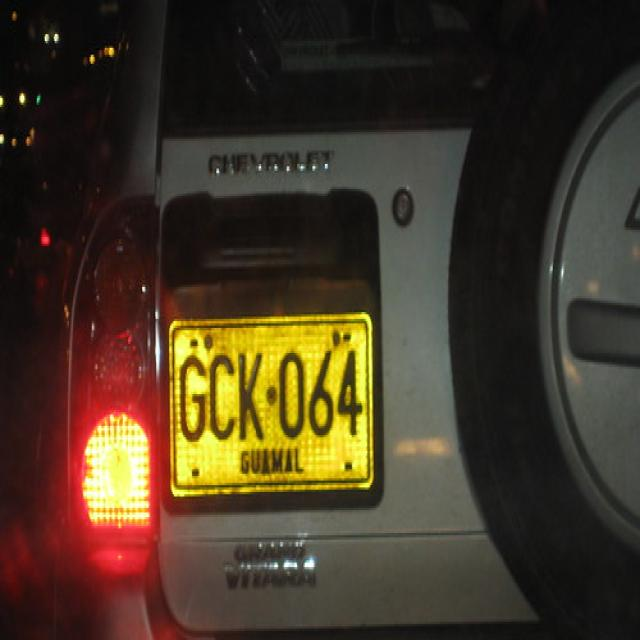placa_carro: (162, 310, 378, 514)
